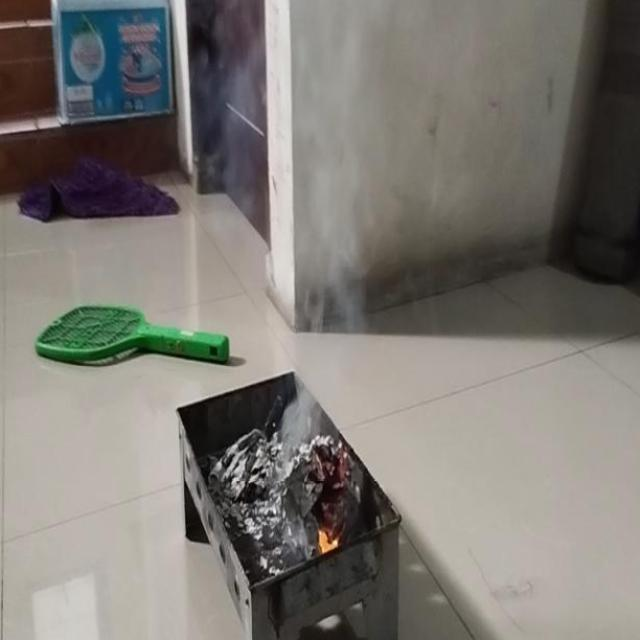fire: (187, 14, 360, 210), (280, 212, 372, 454)
smoke: (312, 521, 342, 558)
